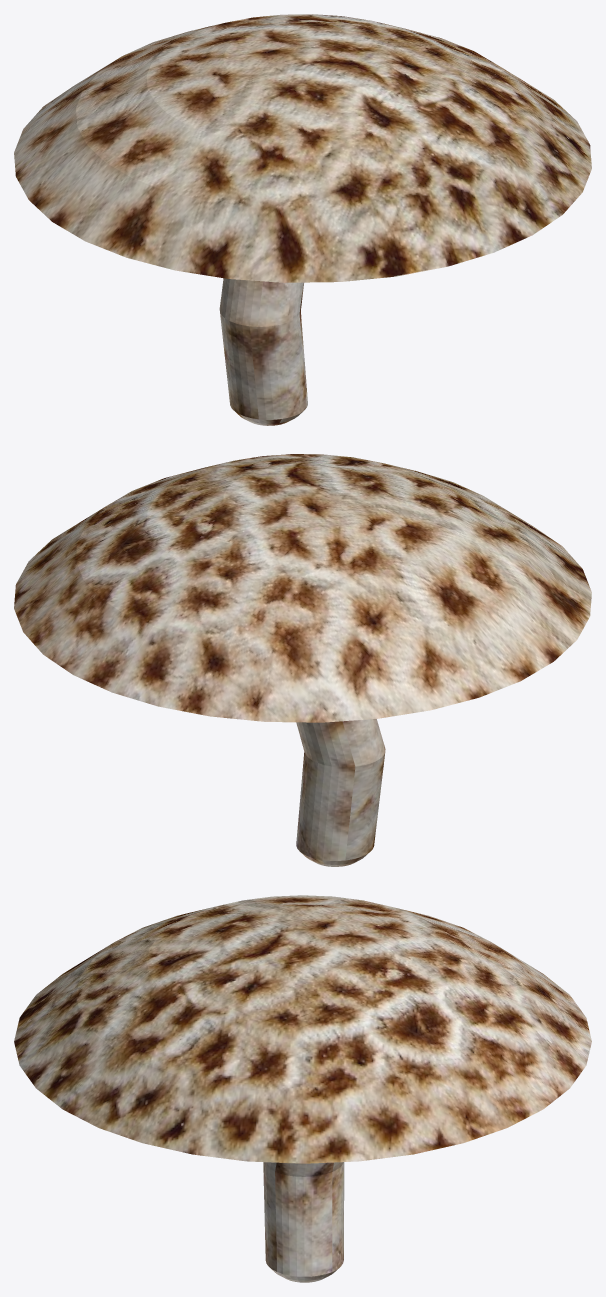
Rendered from mushroom.obj.
3 views of the same model, one above another, from view 1: azimuth 30°, elevation 25°; view 2: azimuth 150°, elevation 25°; view 3: azimuth 270°, elevation 25° (orthographic).
Size of the model in its own units: 1.41 by 0.9752 by 1.41.
Materials: 1 (1 with a texture image).
